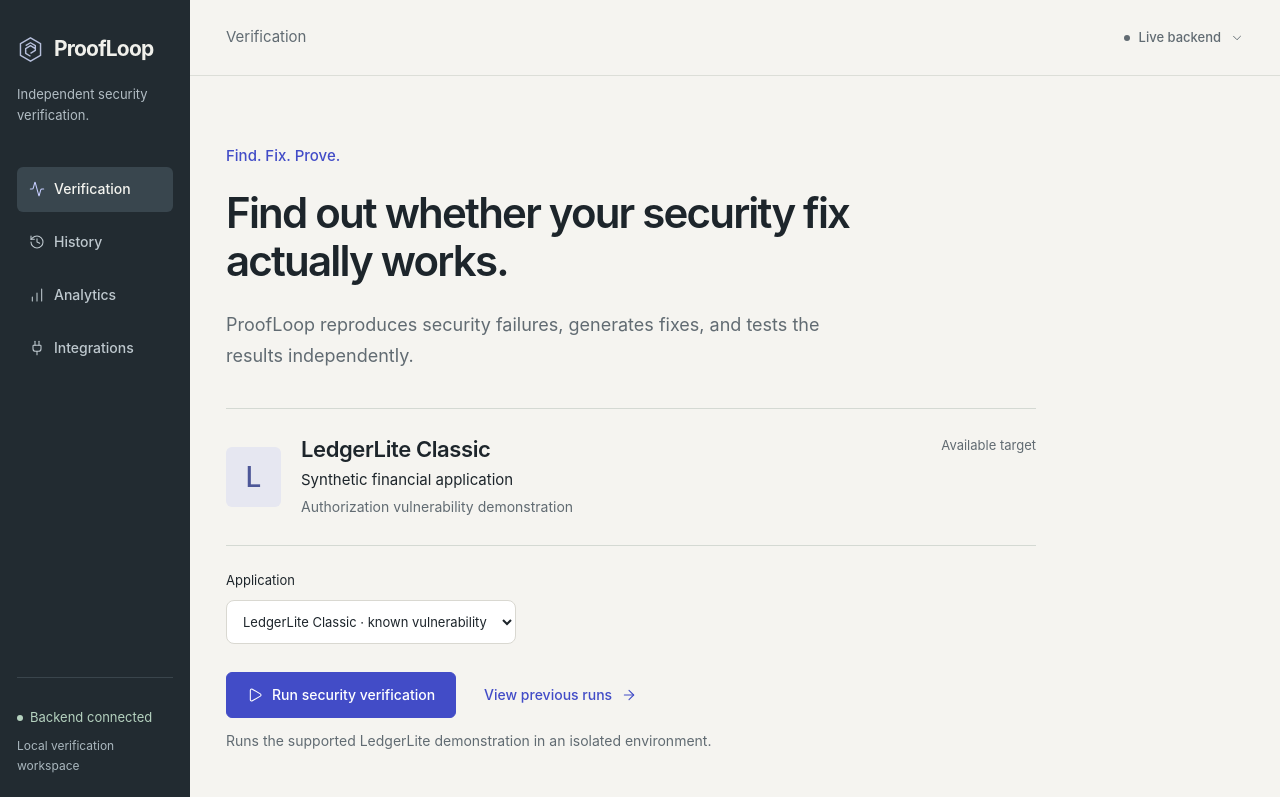
guided investigation workspace › reports an actual request failure without falling back to illustrative success
This screenshot has width=1280, height=797.
expect the text "Backend connected" is shown: met, box [17,707,152,728]
Step 1. Click the button "Run security verification" → (341, 695), box [226,672,456,718]
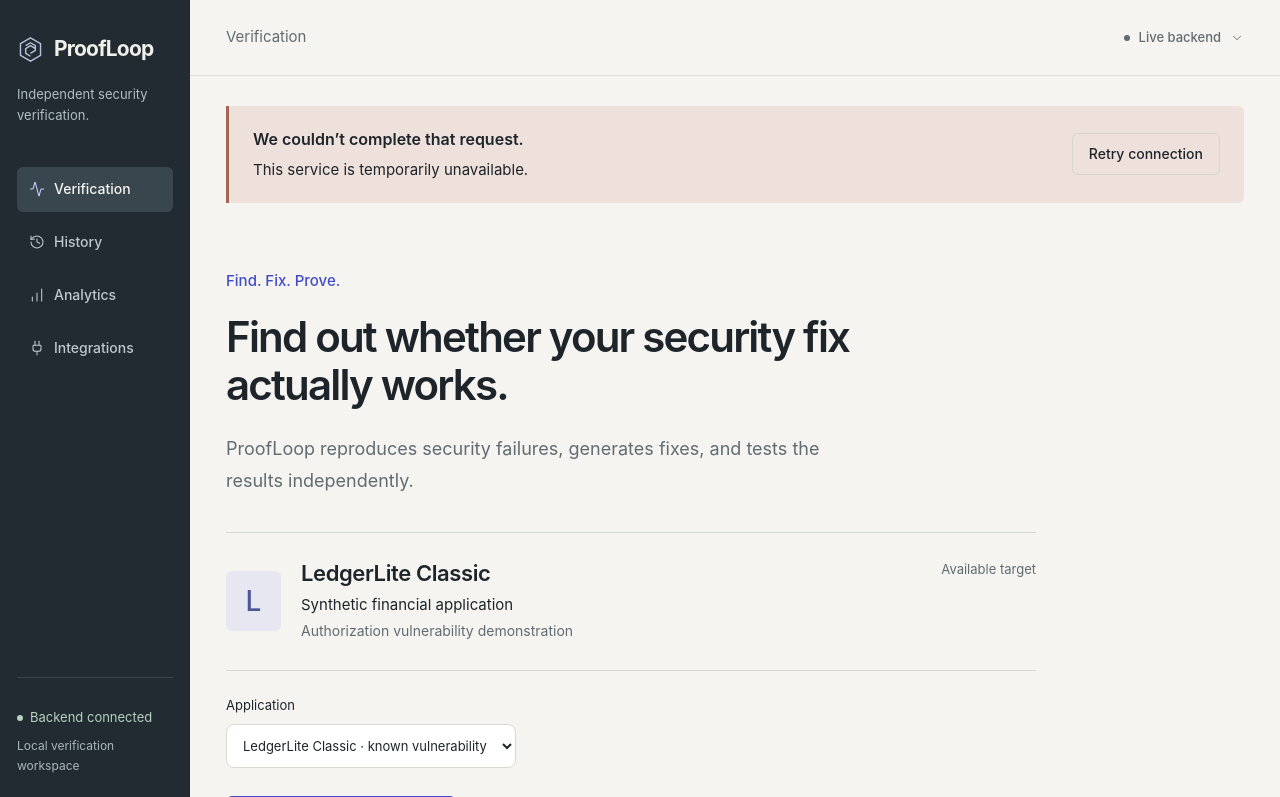
expect the message that starts with "We couldn’t complete that request." shows "temporarily unavailable": met, box [253,160,528,179]
